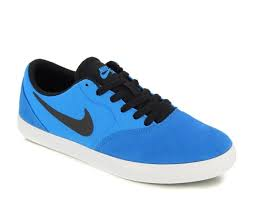nike: (31, 90, 95, 139)
